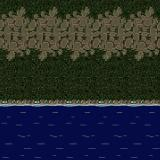Interaction: (0, 88, 160, 117)
Slow: (0, 106, 160, 160)
